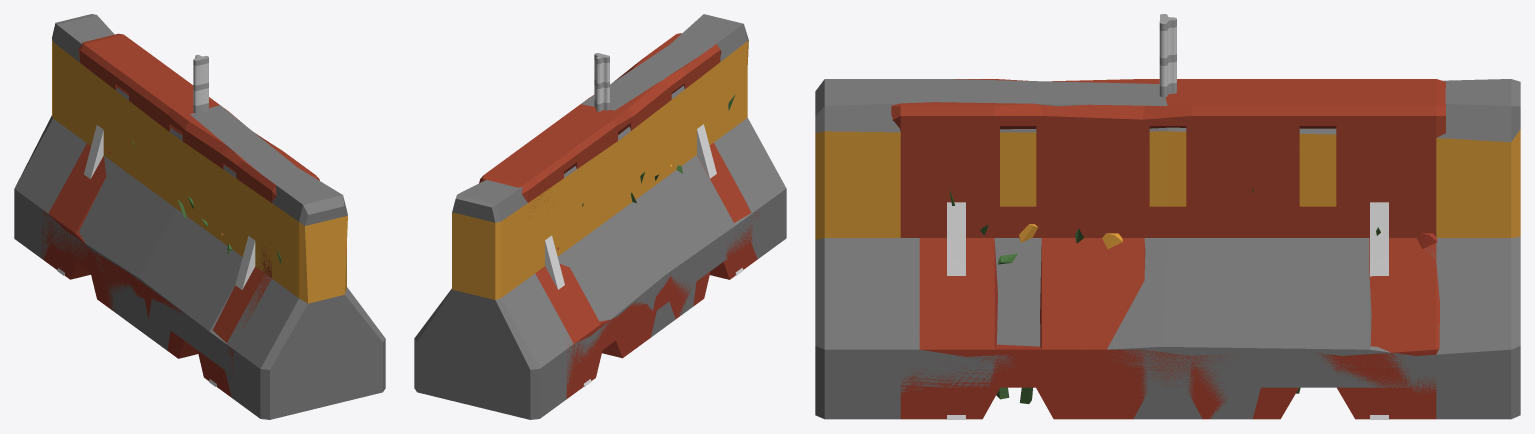
File: dividers.glb
The picture shows the model from 3 angles, left to right: view 1: azimuth 30°, elevation 25°; view 2: azimuth 150°, elevation 25°; view 3: azimuth 270°, elevation 25°; orthographic projection. The views are drawn at different scales.
Visible parts, largest first — view 1: jersey-barrier-concrete, jersey-barrier-plastic, barricade, bollard; view 2: jersey-barrier-concrete, jersey-barrier-plastic, barricade, bollard; view 3: jersey-barrier-concrete, jersey-barrier-plastic, barricade, bollard, planter-box.
Part boxes in pixels (x1,y1,x2,y2): jersey-barrier-concrete: [14, 14, 385, 419]; jersey-barrier-plastic: [41, 33, 319, 397]; barricade: [57, 125, 255, 386]; bollard: [193, 54, 208, 113]; jersey-barrier-concrete: [414, 14, 786, 419]; jersey-barrier-plastic: [479, 33, 759, 398]; barricade: [545, 124, 743, 386]; bollard: [594, 53, 609, 111]; jersey-barrier-concrete: [815, 79, 1520, 419]; jersey-barrier-plastic: [891, 79, 1445, 419]; barricade: [947, 202, 1388, 419]; bollard: [1159, 14, 1176, 97]; planter-box: [949, 187, 1437, 264].
Bounding box in the file's own units: 0.664 × 1.28 × 2.29.
1 material, 1 textured.
